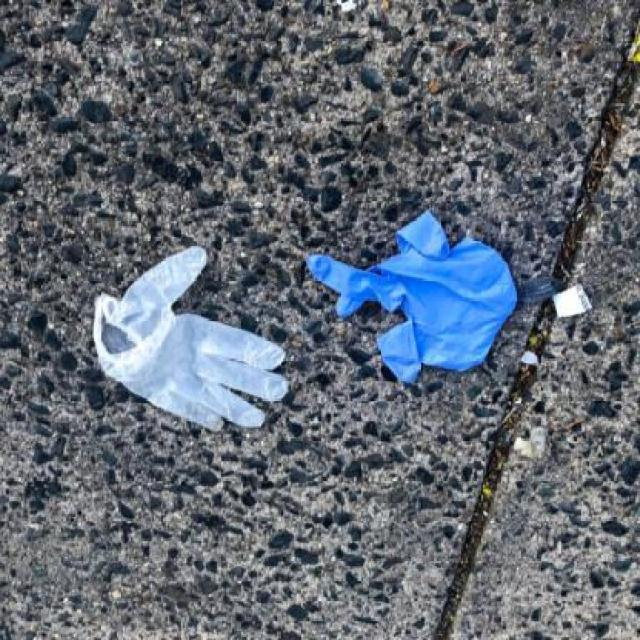glove_hand: (72, 225, 294, 450), (308, 213, 516, 387)
